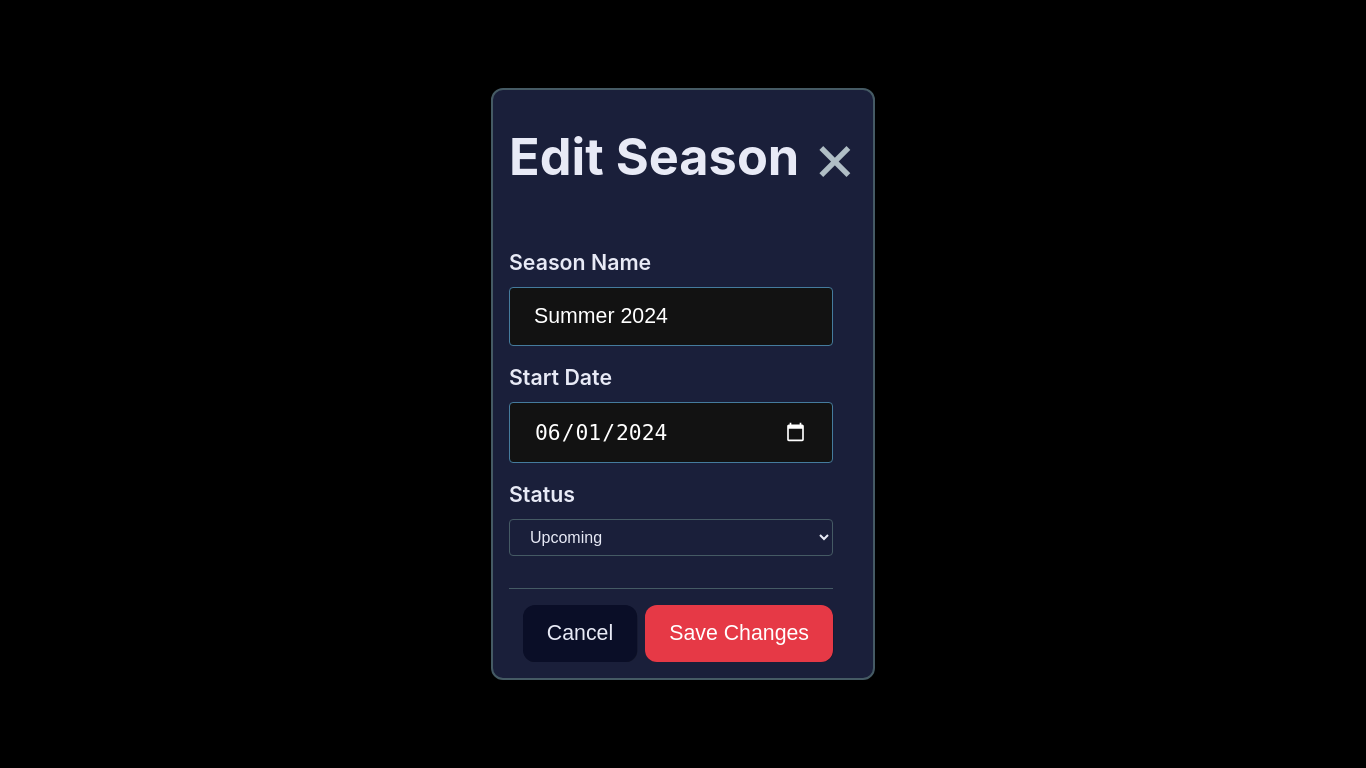
Test: EditSeasonModal Component › shows hint text when status is set to completed and season has no end date
Select "Completed" in the dropdown at coordinates (671, 538), box [509,519,833,556]
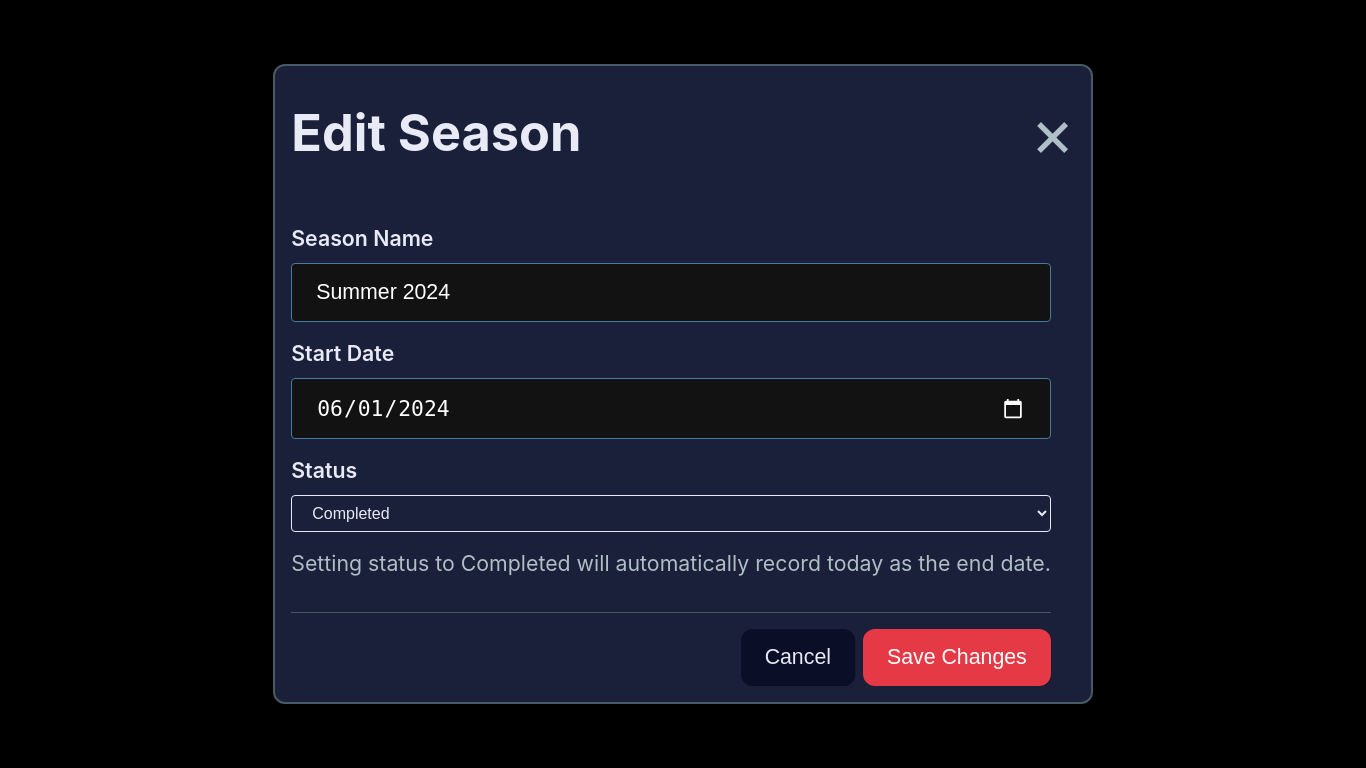
expect the text "Setting status to Completed will automatically record today" is shown: met, box [291,550,1051,576]
